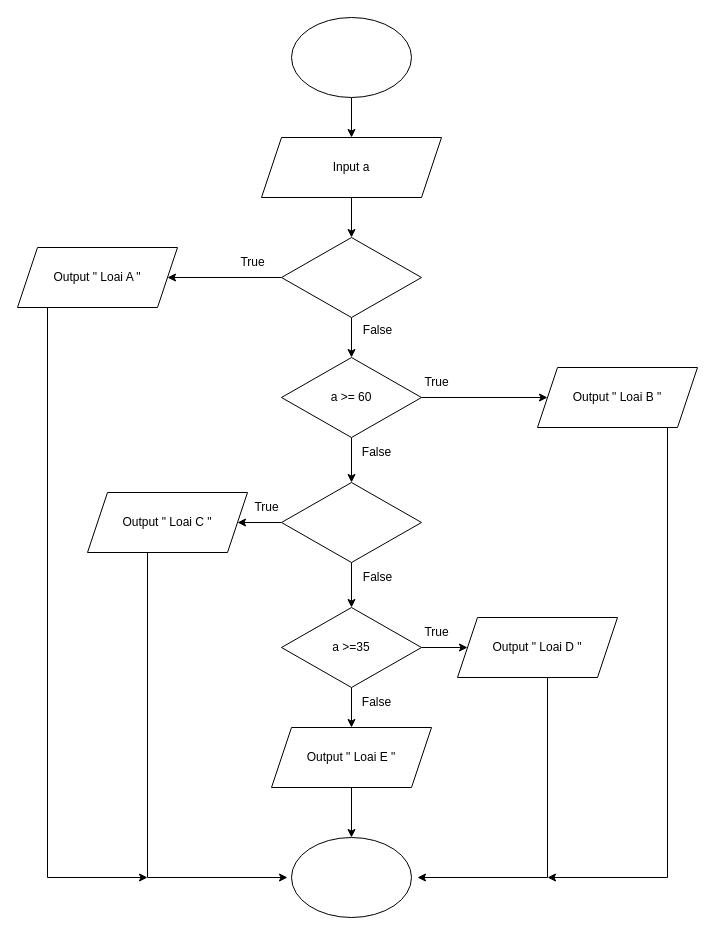
Image size: 715x935. Some labels were removed from this diagram. Here are the shapes that lost their labels. From the top down, the centre of each, then its label:
At point (351, 57): "Begin".
At point (351, 277): "a >= 75".
At point (351, 522): "a >= 45".
At point (351, 877): "End".
